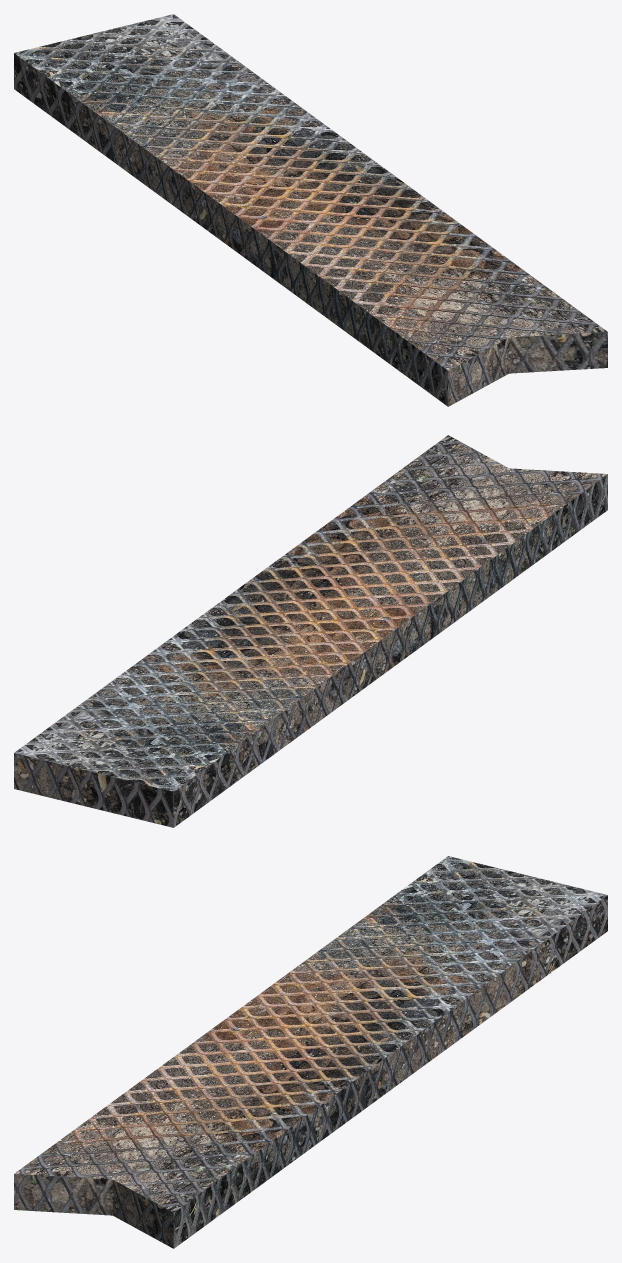
Rendered from ledge02.obj.
3 views of the same model, one above another, from view 1: azimuth 30°, elevation 25°; view 2: azimuth 150°, elevation 25°; view 3: azimuth 330°, elevation 25° (orthographic).
Visible parts, largest first — view 1: Plane.003; view 2: Plane.003; view 3: Plane.003.
Part boxes in pixels (box(x1,y1,x2,y2)): Plane.003: box(14, 14, 607, 406); Plane.003: box(14, 435, 607, 827); Plane.003: box(14, 856, 607, 1248).
Bounding box in the file's own units: 1.98 × 0.4268 × 9.31.
